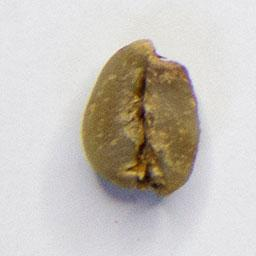defect: (79, 35, 204, 201)
